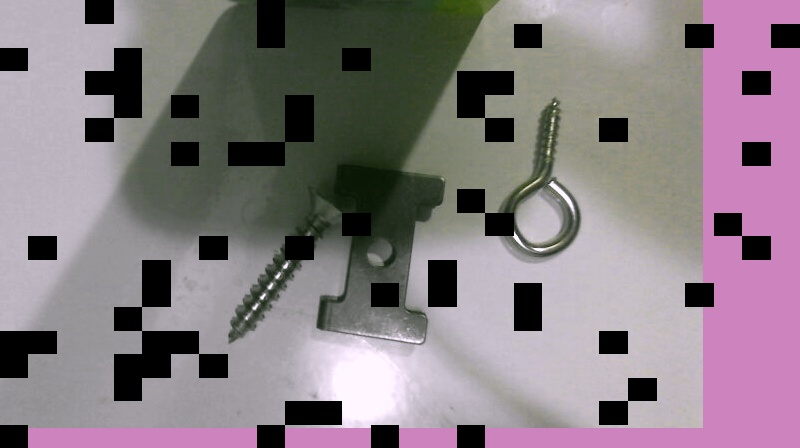O001: (500, 91, 590, 260)
O002: (315, 161, 447, 346)
S001: (223, 178, 352, 344)
